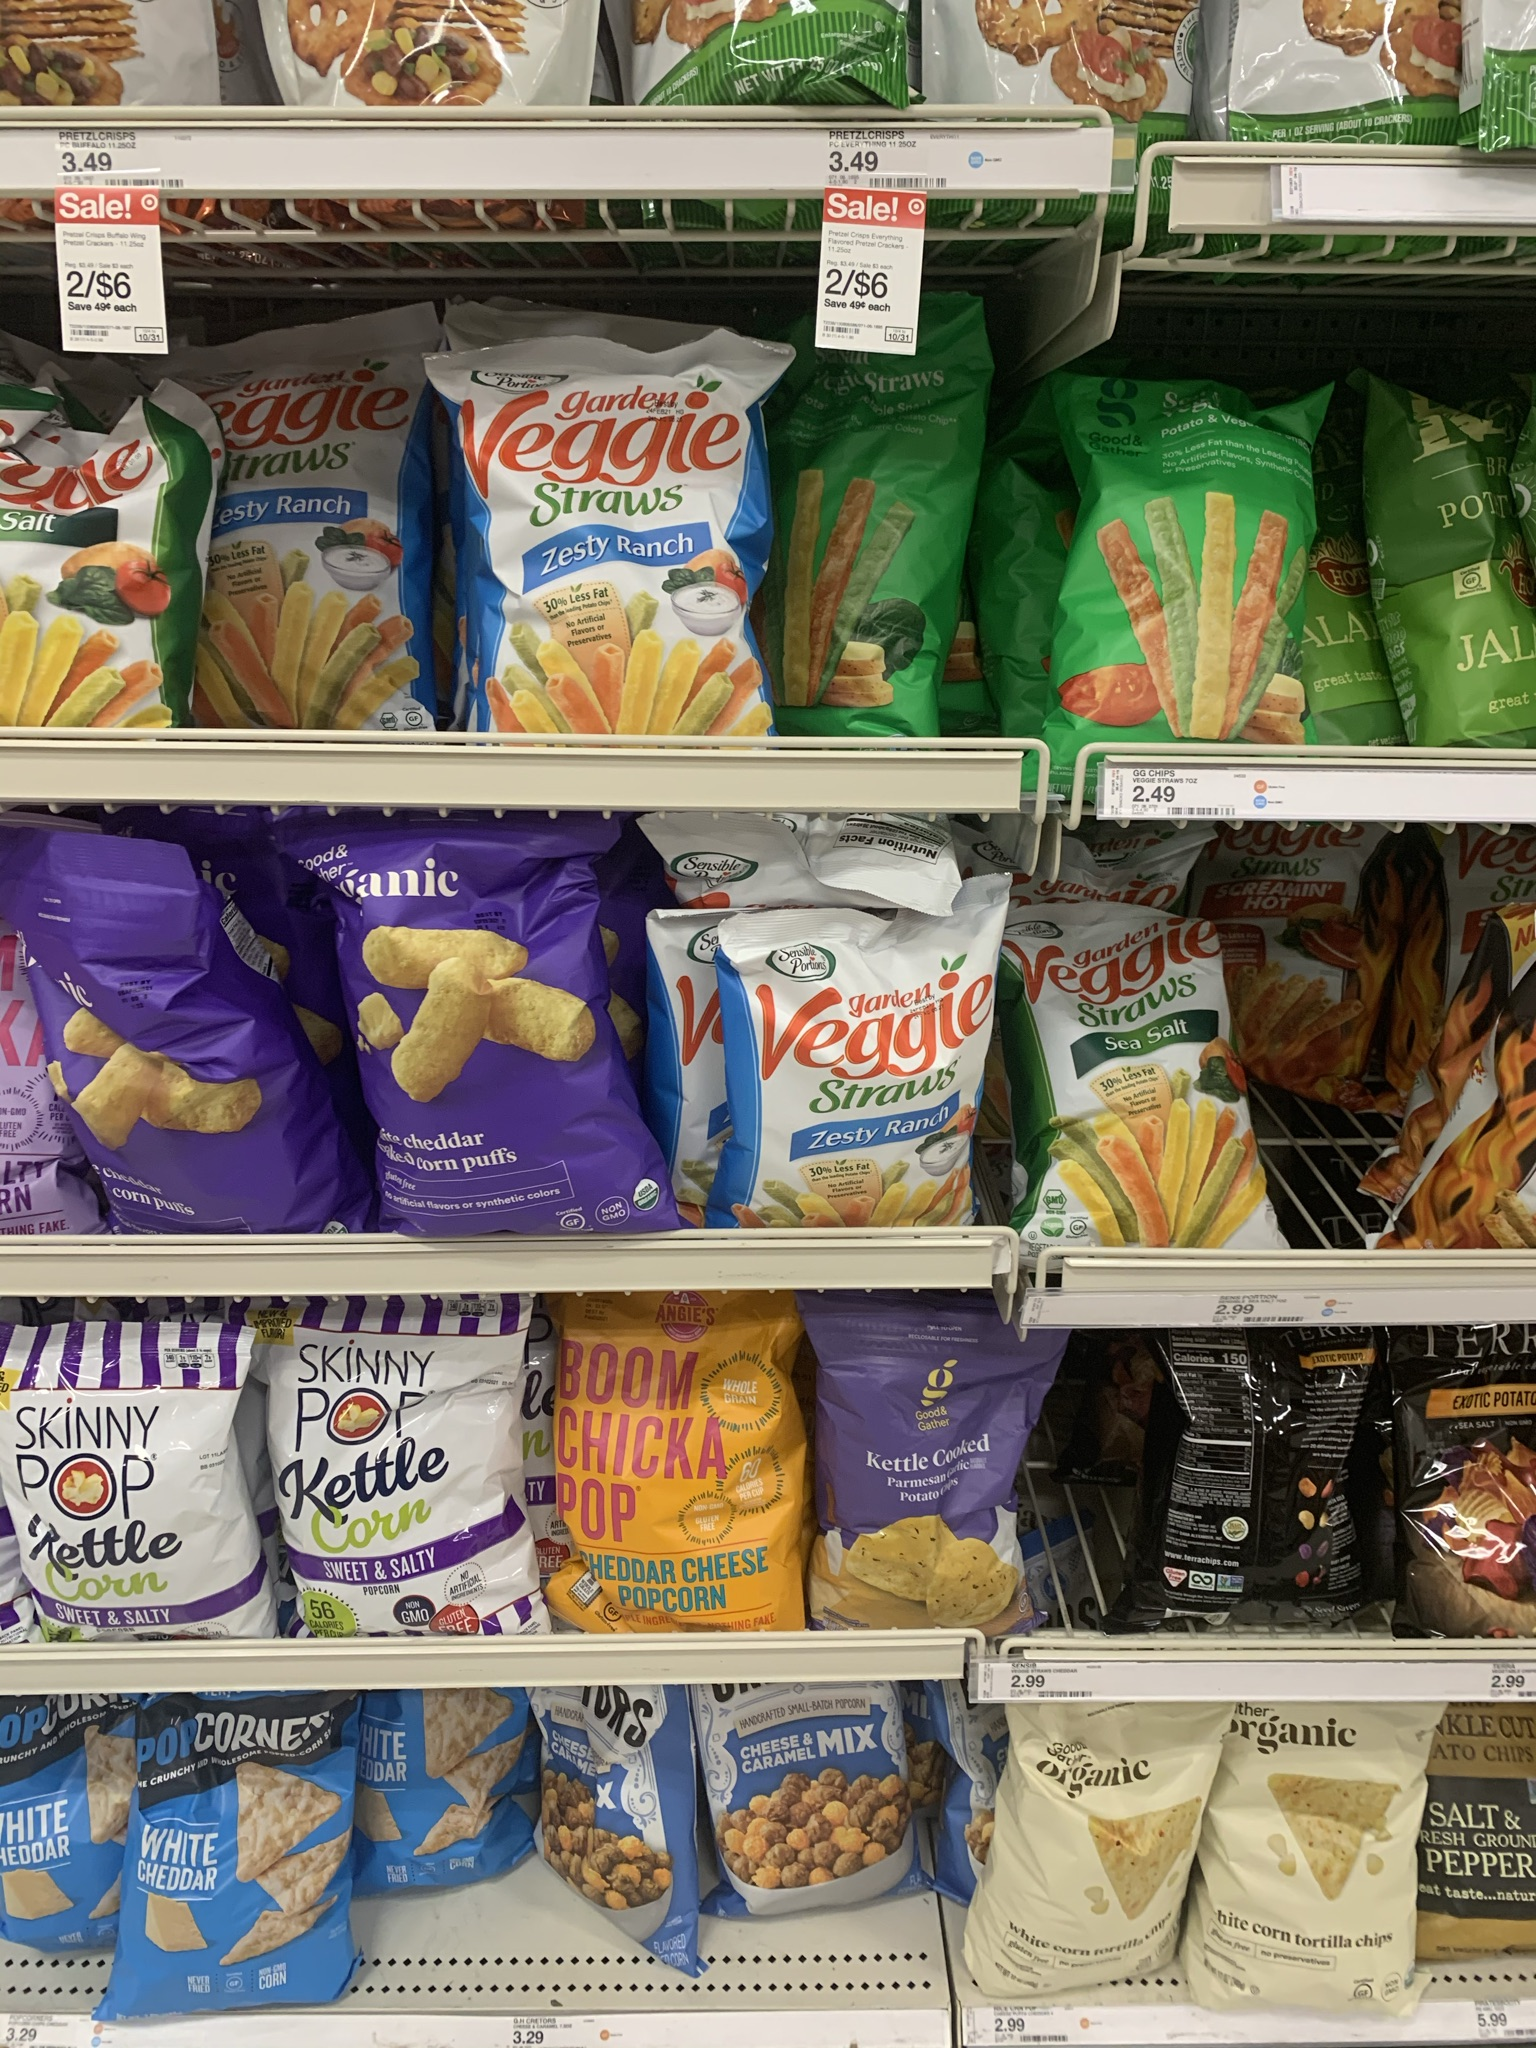chip: (310, 843, 649, 1238), (437, 343, 757, 755), (171, 326, 460, 740), (1054, 364, 1312, 748), (1025, 892, 1270, 1268), (724, 885, 983, 1232), (58, 848, 260, 1240), (773, 331, 960, 742), (2, 373, 202, 747), (1199, 1675, 1418, 2004), (1363, 387, 1536, 753), (999, 1675, 1194, 1993)
